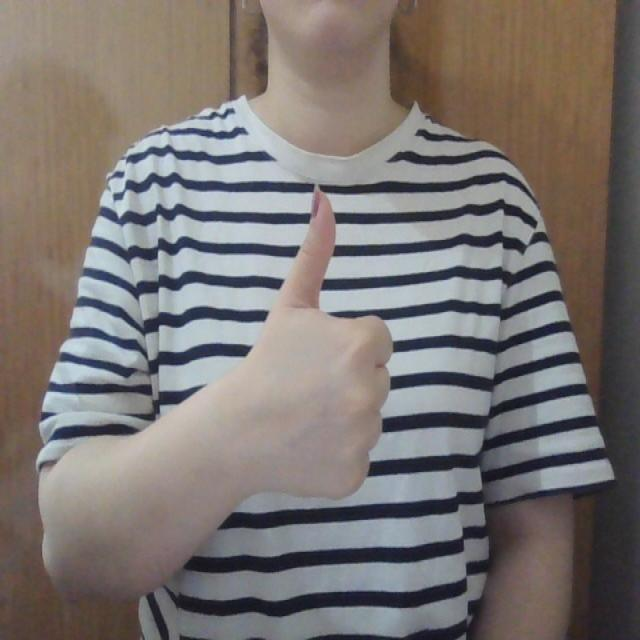Tamam: (236, 177, 402, 510)
